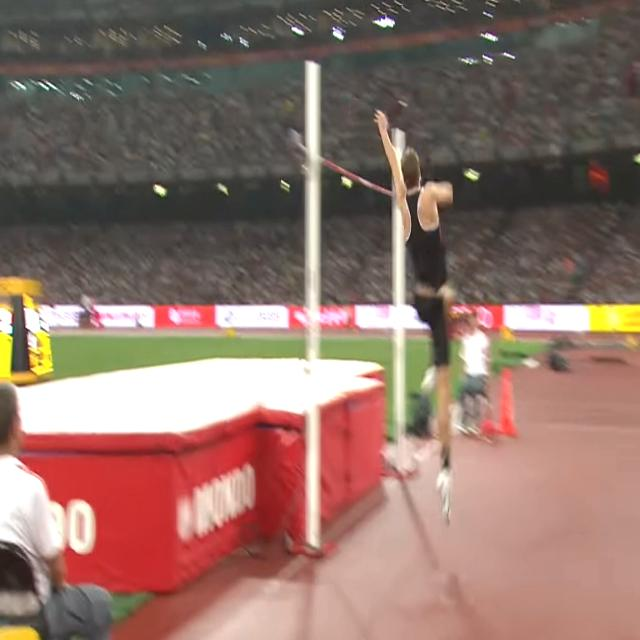jump: (374, 108, 450, 524)
